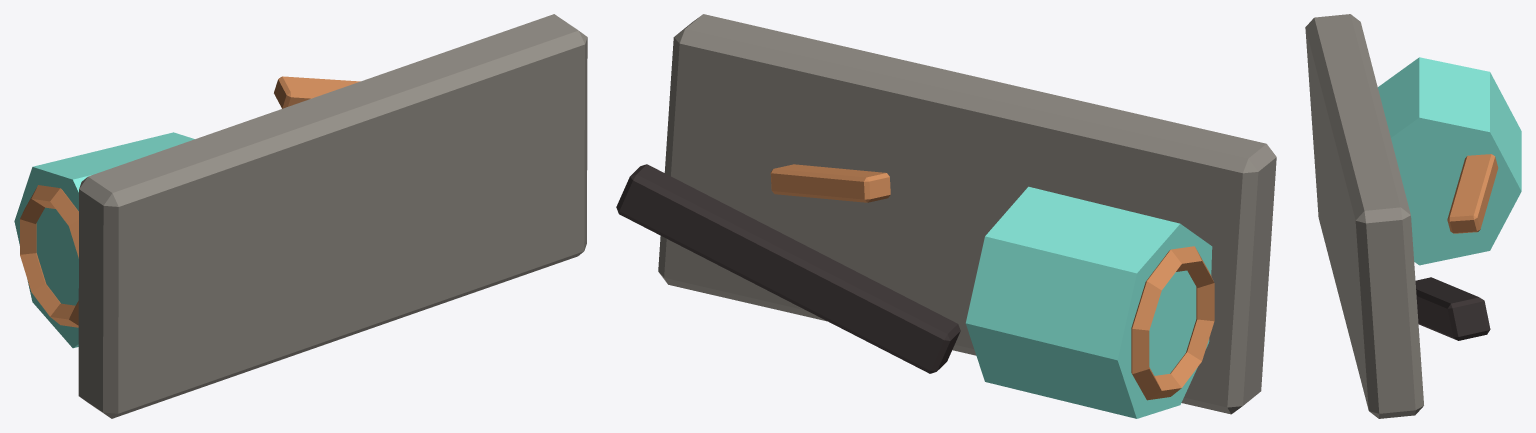
File: CrashBasinWreckB.fbx
3 renders of one model, left to right at view 1: azimuth 30°, elevation 25°; view 2: azimuth 150°, elevation 25°; view 3: azimuth 270°, elevation 25°, orthographic. The views are drawn at different scales.
Visible parts, largest first — view 1: WreckPlate, WreckCore, WreckRim, WreckShard; view 2: WreckPlate, WreckCore, WreckBeam, WreckRim, WreckShard; view 3: WreckPlate, WreckCore, WreckBeam, WreckShard.
Boxes of the visible parts, x1=… form: WreckPlate: x1=78, y1=14, x2=587, y2=418; WreckCore: x1=14, y1=132, x2=194, y2=348; WreckRim: x1=20, y1=185, x2=78, y2=327; WreckShard: x1=274, y1=76, x2=360, y2=108; WreckPlate: x1=658, y1=14, x2=1276, y2=414; WreckCore: x1=965, y1=186, x2=1212, y2=418; WreckBeam: x1=616, y1=164, x2=960, y2=373; WreckRim: x1=1131, y1=246, x2=1214, y2=400; WreckShard: x1=770, y1=164, x2=890, y2=202; WreckPlate: x1=1305, y1=14, x2=1423, y2=418; WreckCore: x1=1378, y1=57, x2=1521, y2=265; WreckBeam: x1=1415, y1=277, x2=1490, y2=340; WreckShard: x1=1447, y1=154, x2=1498, y2=233.
Size of the model in its own units: 305 by 142 by 124.
